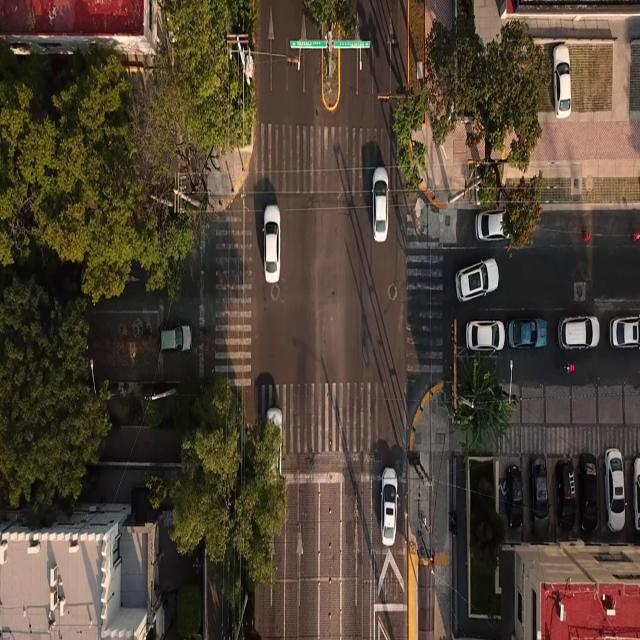car: (455, 259, 499, 301), (604, 448, 625, 531), (528, 456, 548, 540), (579, 454, 597, 532), (556, 459, 575, 531), (263, 205, 280, 283), (558, 317, 599, 349), (553, 44, 570, 118), (381, 468, 397, 546), (466, 320, 504, 351), (507, 319, 547, 348), (505, 465, 523, 527), (373, 168, 388, 242), (267, 408, 282, 475), (610, 316, 640, 348), (476, 209, 506, 240), (160, 326, 191, 351), (633, 457, 640, 531)
